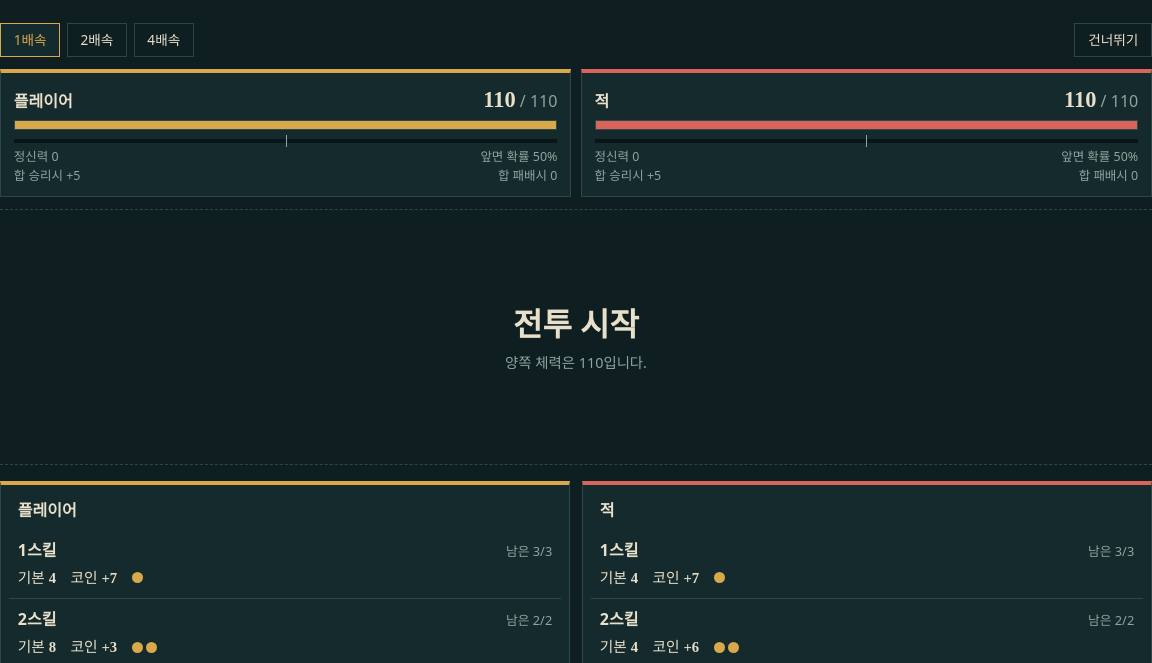
Test: 재생 속도 › 끝까지 재생하면 전투 기록에 결과가 남는다
Click the button "건너뛰기": (1113, 40) [1074,22,1151,57]
(page scrolled)
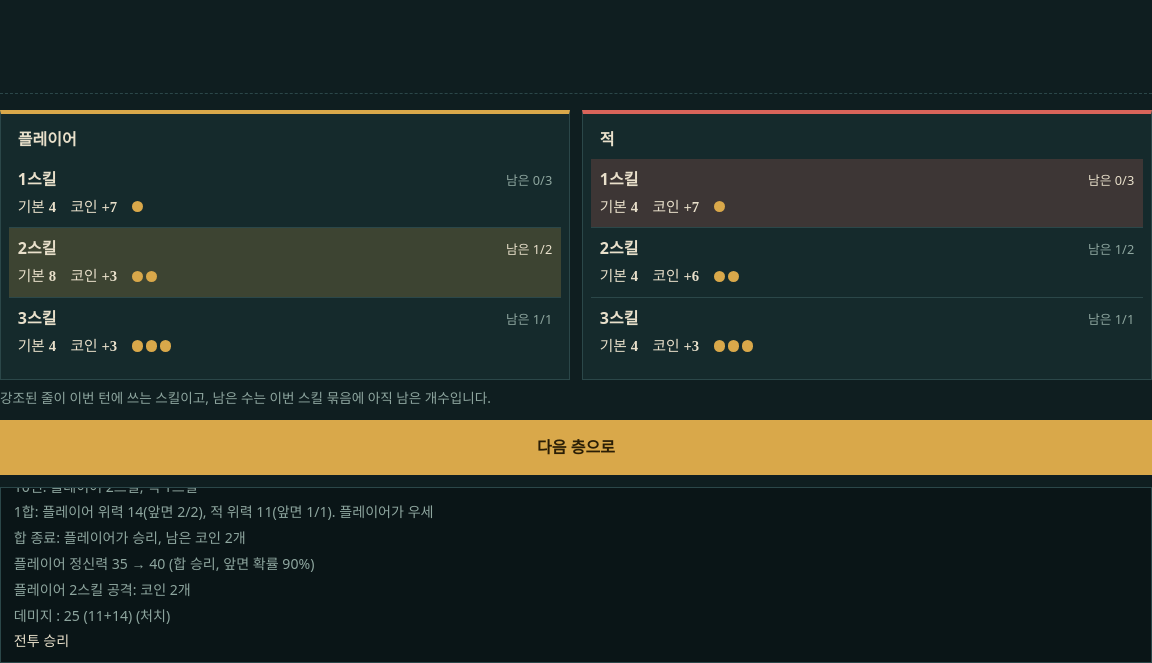
Result: the list item "전투 승리" is shown at [14,631,69,650]
